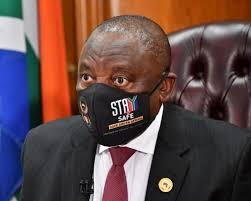Wearing Mask: (68, 8, 176, 144)
